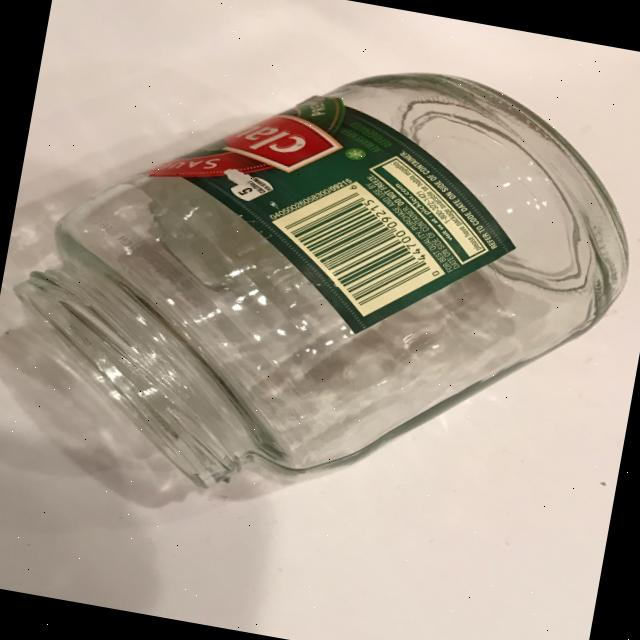glass: (0, 5, 640, 558)
